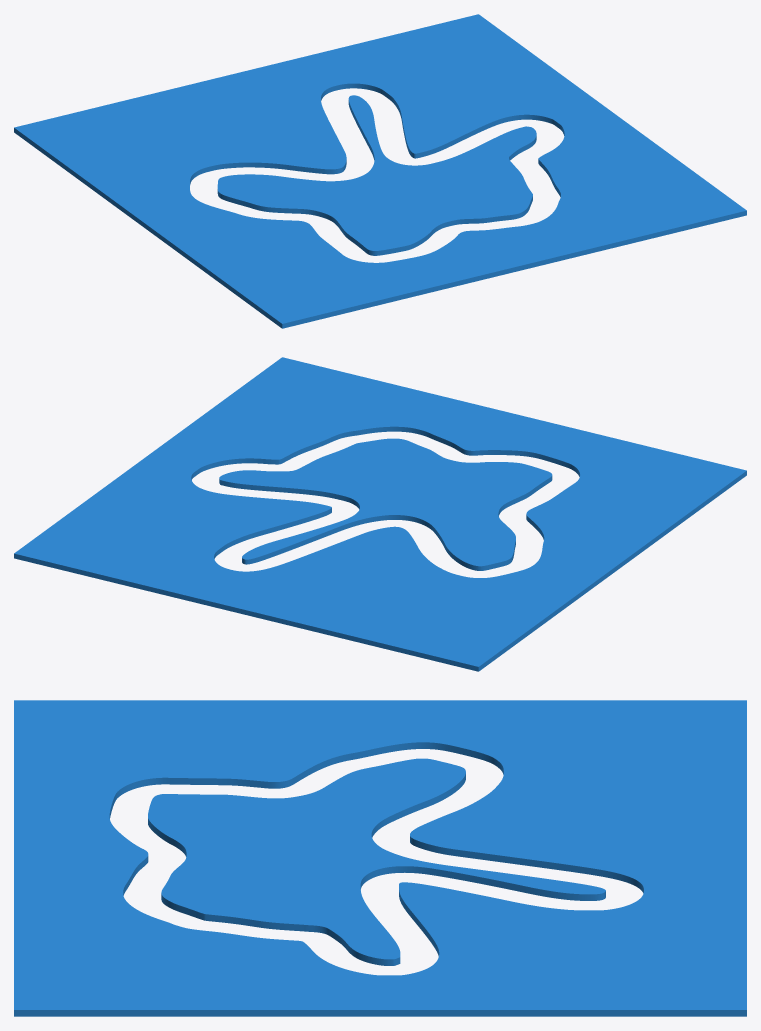
File: map3.dae
3 views of the same model, one above another, from view 1: azimuth 30°, elevation 25°; view 2: azimuth 150°, elevation 25°; view 3: azimuth 270°, elevation 25° (orthographic). The views are drawn at different scales.
Parts seen in each view (by area): view 1: ImageToStl.com_map3; view 2: ImageToStl.com_map3; view 3: ImageToStl.com_map3.
Part boxes in pixels (x1=…): ImageToStl.com_map3: x1=14, y1=14, x2=746, y2=328; ImageToStl.com_map3: x1=14, y1=357, x2=746, y2=671; ImageToStl.com_map3: x1=14, y1=700, x2=746, y2=1016.
Bounding box in the file's own units: 20 × 20 × 0.2.
